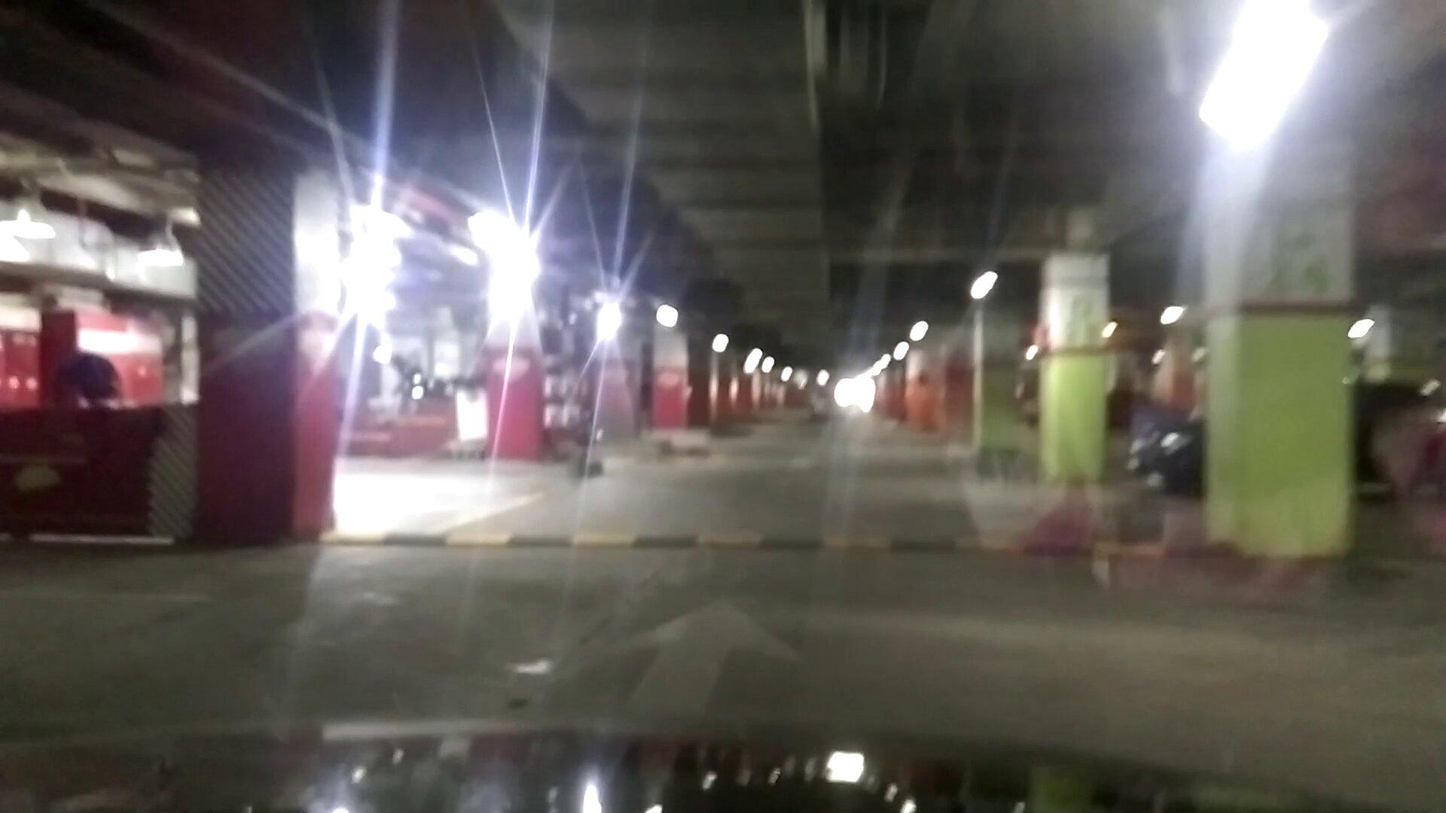Bump: (331, 510, 1171, 566)
